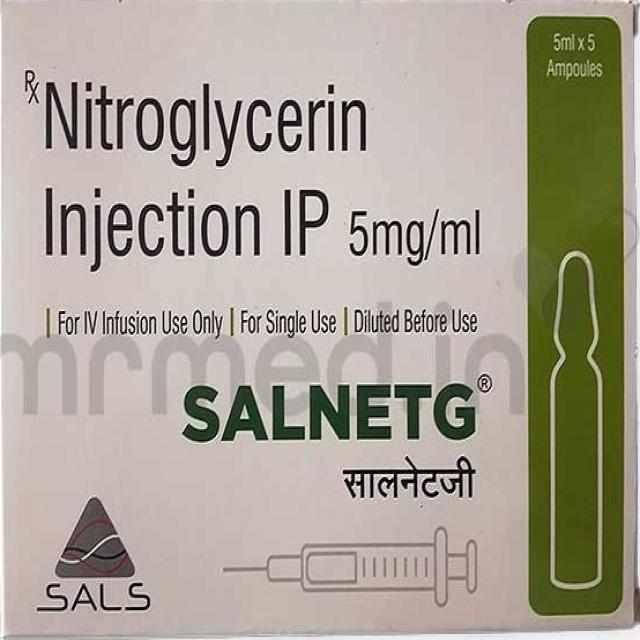drug-name: (178, 371, 496, 444)
